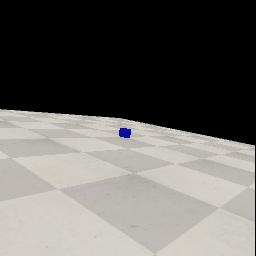box: (119, 128, 131, 138)
